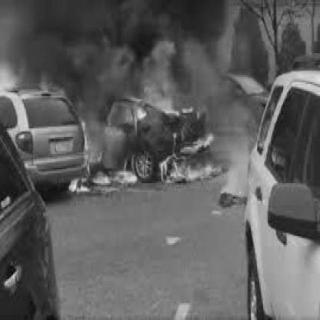Fire: (35, 33, 227, 191)
Smoke: (6, 2, 214, 84)
